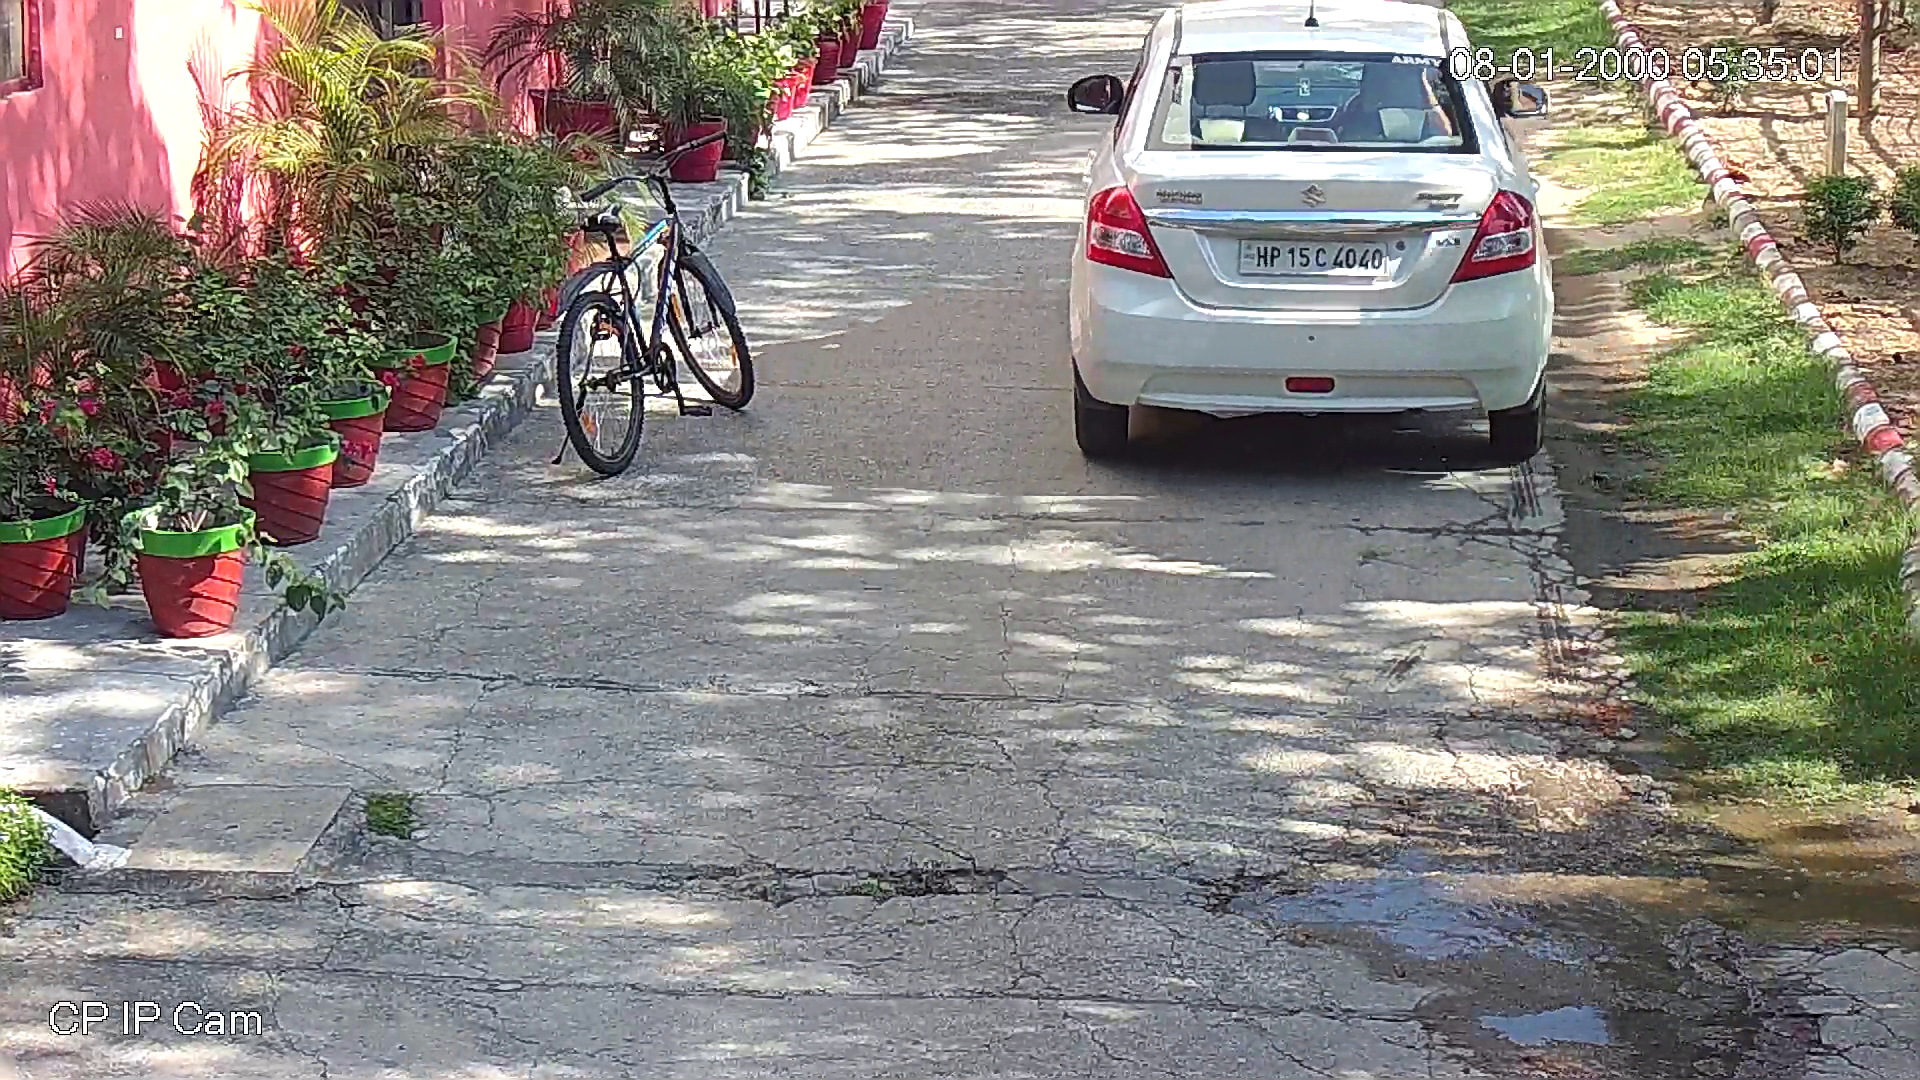plate: (1233, 231, 1393, 277)
